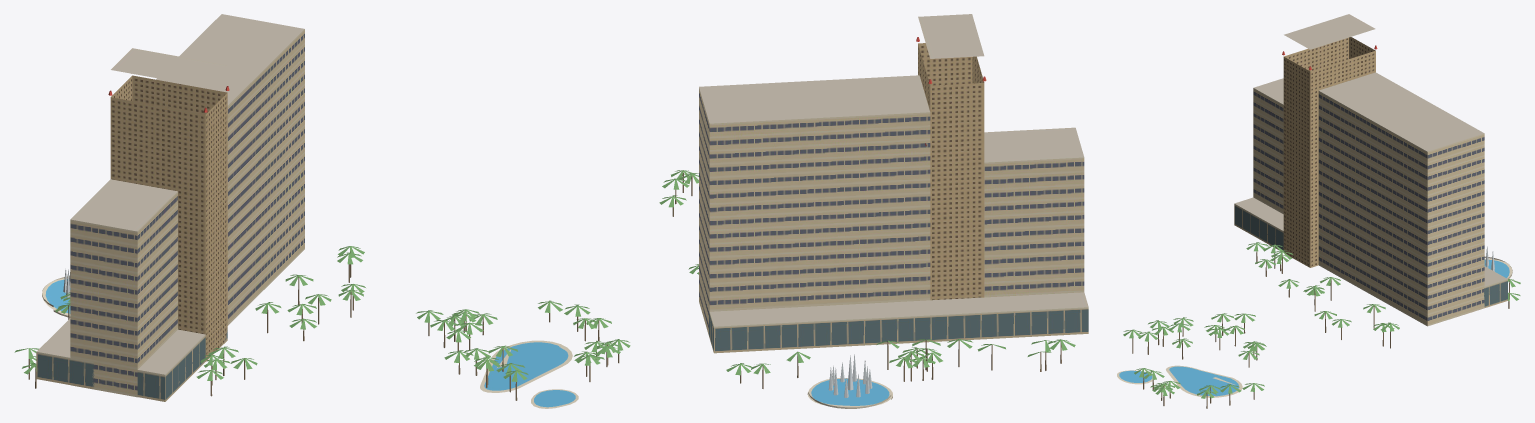
File: amitie_hotel.glb
3 renders of one model, left to right at view 1: azimuth 30°, elevation 25°; view 2: azimuth 150°, elevation 25°; view 3: azimuth 270°, elevation 25°, orthographic. The views are drawn at different scales.
Visible parts, largest first — view 1: Amitie_Hotel; view 2: Amitie_Hotel; view 3: Amitie_Hotel.
Part boxes in pixels (x1=…): Amitie_Hotel: x1=14, y1=14, x2=630, y2=408; Amitie_Hotel: x1=659, y1=14, x2=1088, y2=408; Amitie_Hotel: x1=1117, y1=14, x2=1520, y2=408.
Bounding box in the file's own units: 0.35 × 0.2097 × 0.3083.
Materials: 1 (1 with a texture image).
